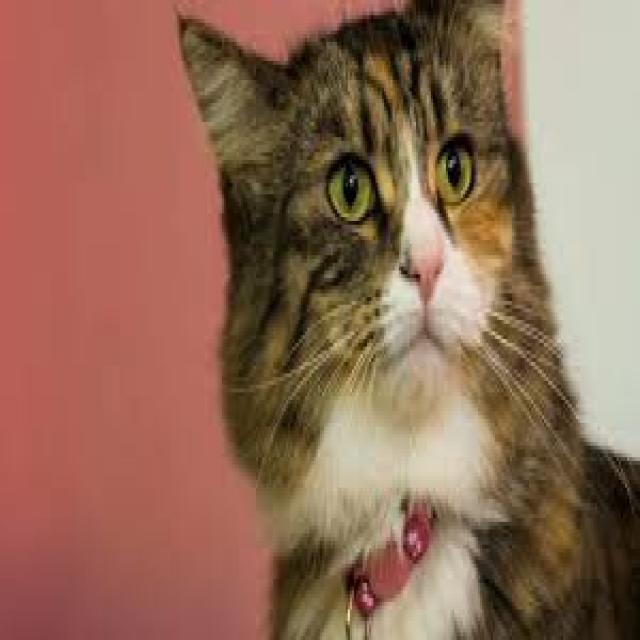cat: (234, 103, 544, 516)
